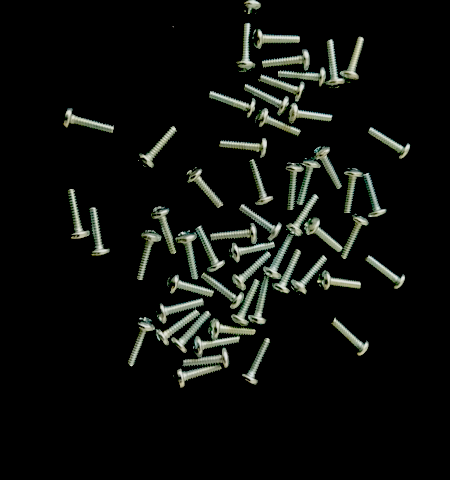shortscrew: (136, 125, 178, 171), (171, 311, 212, 355), (328, 316, 370, 357), (200, 272, 245, 310), (154, 310, 199, 348), (365, 126, 411, 163), (237, 204, 283, 241), (185, 166, 224, 209), (290, 254, 328, 298), (284, 194, 321, 239), (269, 248, 303, 296), (132, 230, 163, 282), (363, 255, 406, 292), (61, 107, 115, 136), (303, 216, 344, 254), (193, 226, 226, 273), (254, 107, 302, 139), (126, 317, 156, 368), (245, 83, 290, 117), (148, 207, 178, 257), (311, 146, 343, 192), (241, 338, 271, 387), (230, 280, 261, 327), (152, 297, 204, 325), (262, 235, 294, 280), (208, 90, 256, 119), (340, 214, 370, 260), (65, 189, 91, 241), (258, 74, 306, 102), (166, 272, 214, 300), (173, 364, 223, 390), (262, 49, 311, 75), (363, 173, 389, 221), (176, 231, 201, 280), (88, 208, 112, 259), (340, 36, 366, 83), (247, 276, 271, 326), (208, 317, 257, 341), (251, 28, 301, 51), (234, 23, 256, 74), (229, 241, 276, 264), (286, 103, 333, 126), (297, 159, 321, 204), (183, 348, 231, 370), (192, 336, 240, 358), (284, 162, 305, 212), (219, 138, 268, 159), (278, 67, 327, 88), (342, 169, 365, 213), (317, 270, 362, 292), (211, 222, 259, 242), (241, 0, 263, 16)
